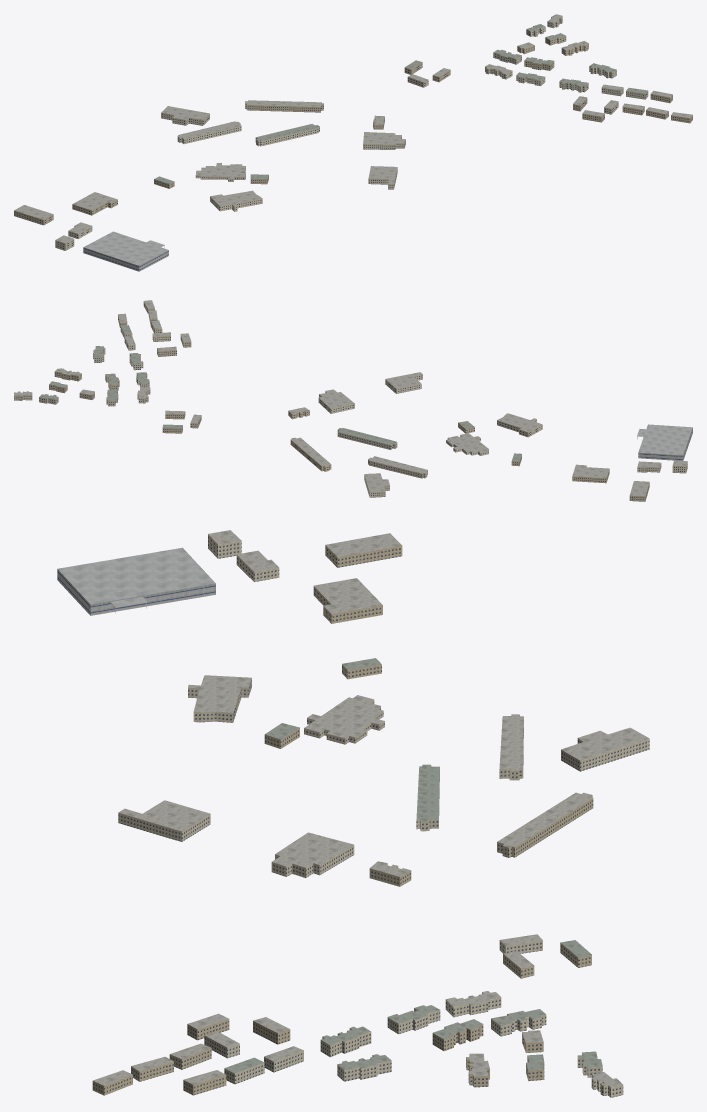
The model's file is ArahaTown_Block_E02048_N04096.gltf.
3 views of the same model, one above another, from view 1: azimuth 30°, elevation 25°; view 2: azimuth 150°, elevation 25°; view 3: azimuth 270°, elevation 25° (orthographic). The views are drawn at different scales.
Visible parts, largest first — view 1: ArahaTown_Block_E02048_N04096; view 2: ArahaTown_Block_E02048_N04096; view 3: ArahaTown_Block_E02048_N04096.
Part boxes in pixels (<box>): ArahaTown_Block_E02048_N04096: <box>14,14,692,271</box>; ArahaTown_Block_E02048_N04096: <box>14,300,692,501</box>; ArahaTown_Block_E02048_N04096: <box>57,530,649,1097</box>.
Bounding box in the file's own units: 1024 × 19.62 × 455.
Materials: 7 (6 with a texture image).
